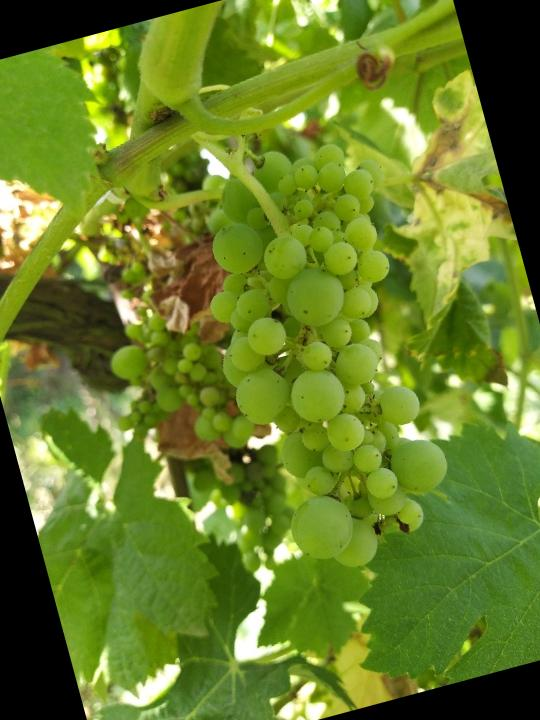grape: (169, 122, 473, 589)
